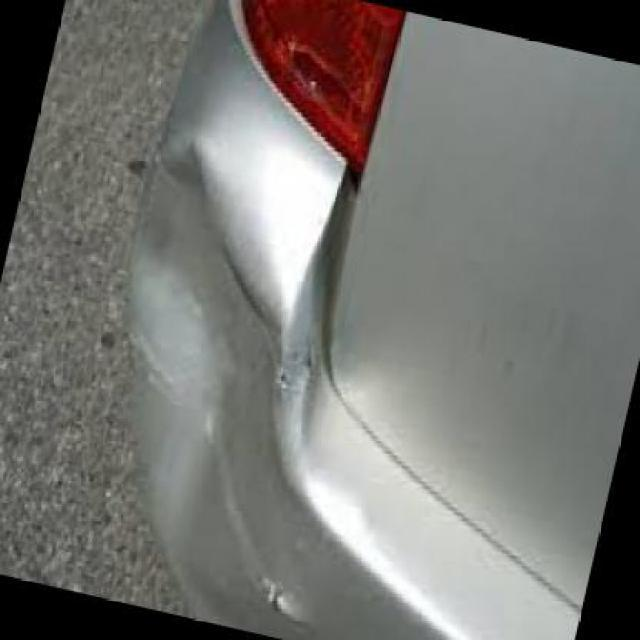dent: (129, 148, 300, 577)
